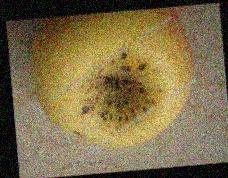rotten apple: (34, 11, 195, 148)
